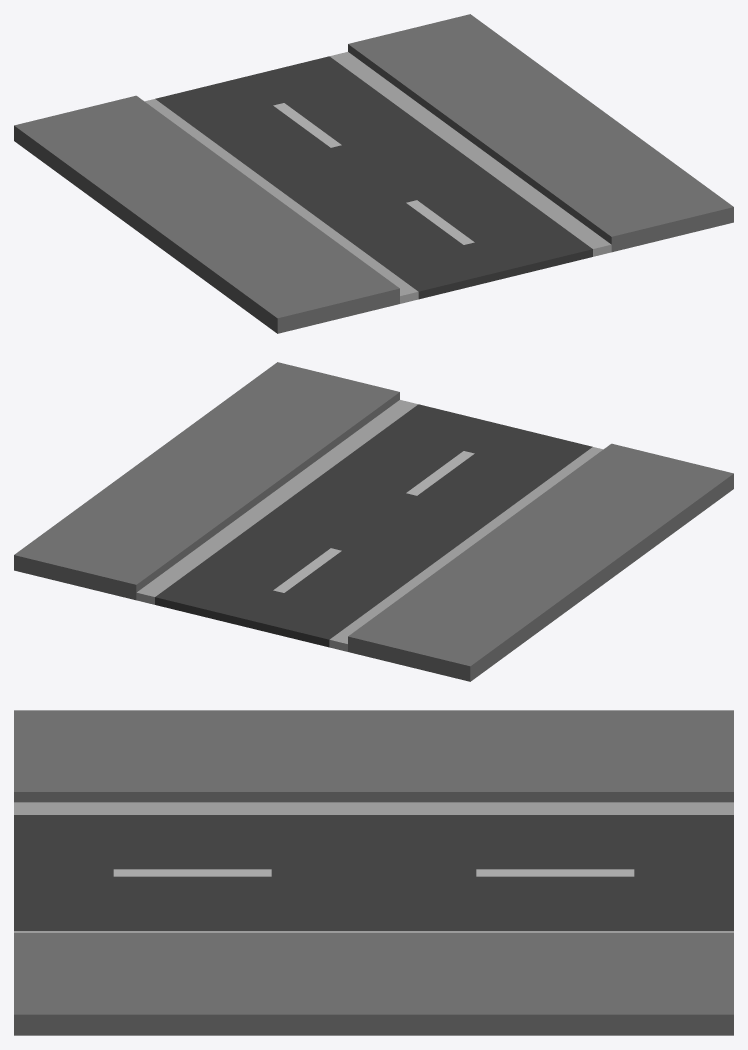
The model's file is calle.obj.
3 renders of one model, top to bottom at view 1: azimuth 30°, elevation 25°; view 2: azimuth 150°, elevation 25°; view 3: azimuth 270°, elevation 25°, orthographic. The views are drawn at different scales.
Bounding box in the file's own units: 123 × 4 × 123.
1 material, 1 textured.
